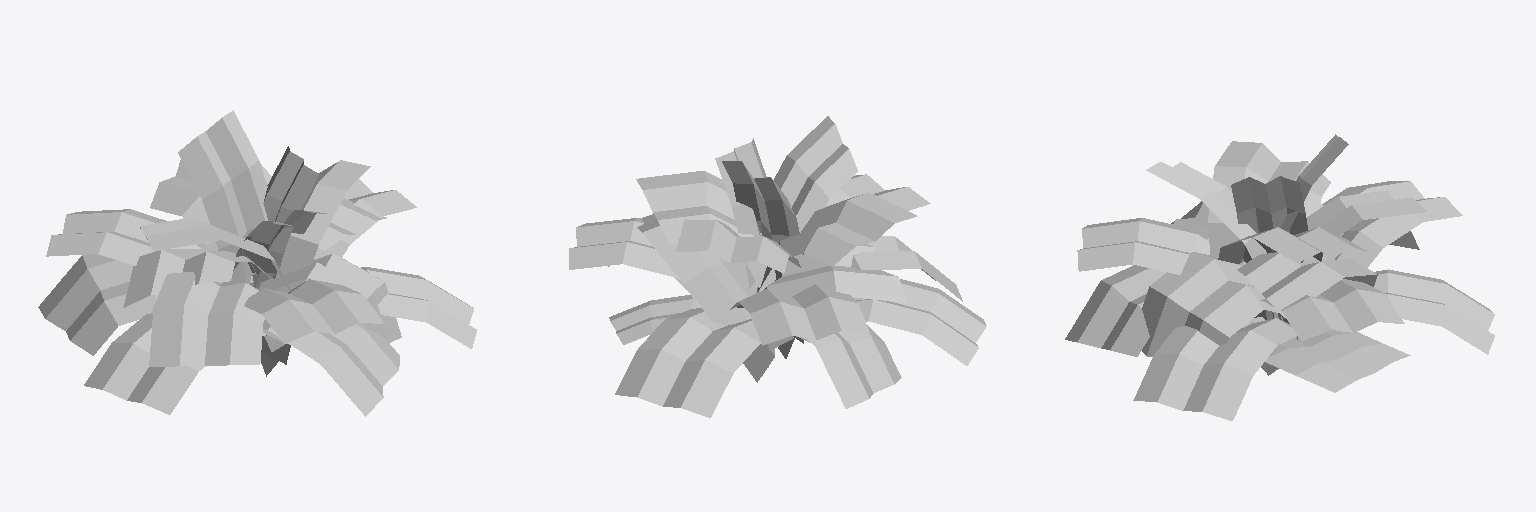
Rendered from trop_shrub_05.obj.
The picture shows the model from 3 angles: view 1: azimuth 30°, elevation 25°; view 2: azimuth 150°, elevation 25°; view 3: azimuth 270°, elevation 25°; orthographic projection.
Parts seen in each view (by area): view 1: trop_shrub_05; view 2: trop_shrub_05; view 3: trop_shrub_05.
Part boxes in pixels (bbox=[...]): trop_shrub_05: bbox=[38, 110, 476, 416]; trop_shrub_05: bbox=[569, 116, 986, 417]; trop_shrub_05: bbox=[1065, 134, 1494, 420].
Size of the model in its own units: 193 by 117 by 193.